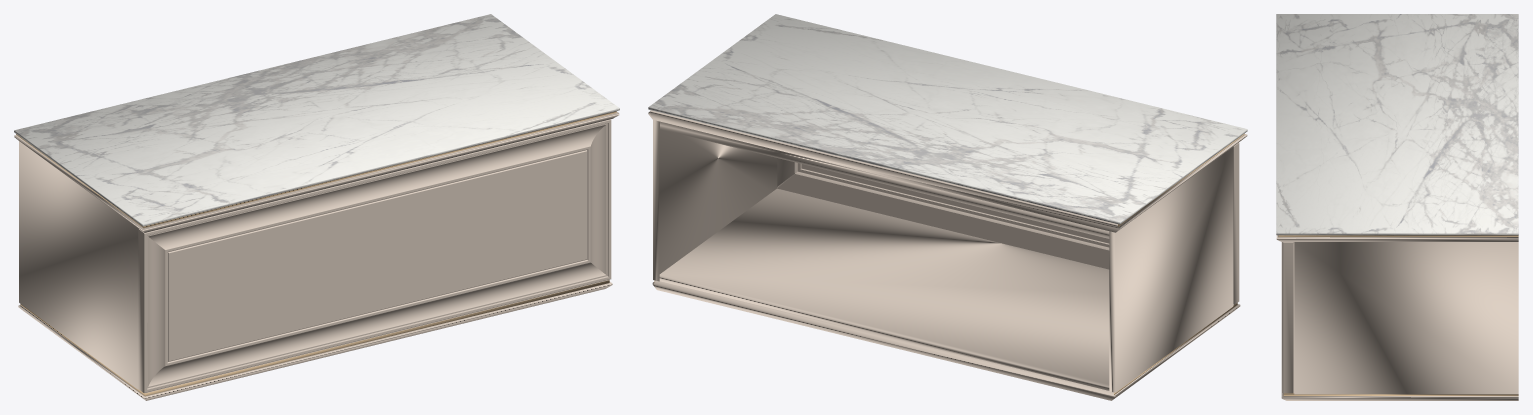
3 views of the same model, side by side, from view 1: azimuth 30°, elevation 25°; view 2: azimuth 150°, elevation 25°; view 3: azimuth 270°, elevation 25° (orthographic). The views are drawn at different scales.
Parts seen in each view (by area): view 1: BL01.016, BL01.017; view 2: BL01.016, BL01.017; view 3: BL01.016, BL01.017.
Boxes of the visible parts, box(x1,y1,x2,y2) form: BL01.016: box(14, 14, 619, 400); BL01.017: box(138, 119, 611, 392); BL01.016: box(648, 14, 1247, 400); BL01.017: box(777, 143, 1239, 305); BL01.016: box(1276, 14, 1518, 400); BL01.017: box(1282, 242, 1293, 393).
Size of the model in its own units: 1.2 by 0.438 by 0.56.
Materials: 3 (2 with a texture image).
